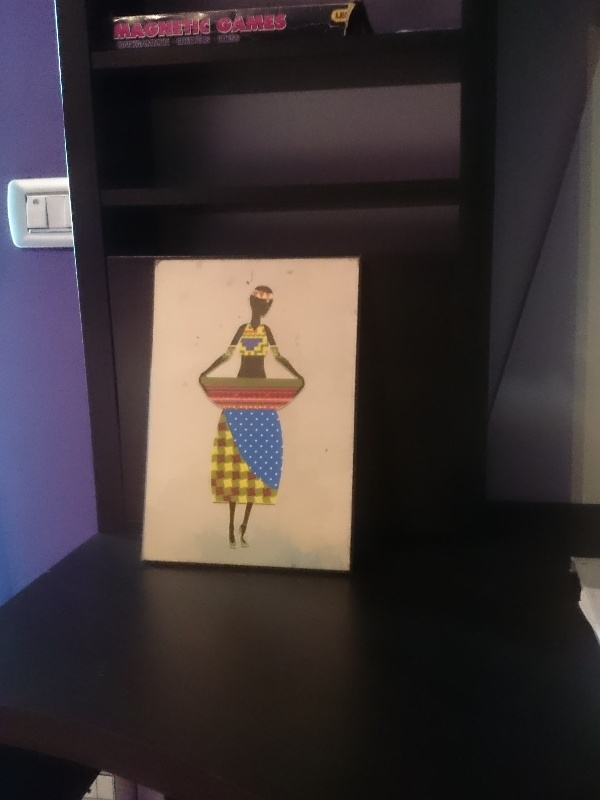my image: (141, 259, 358, 562)
